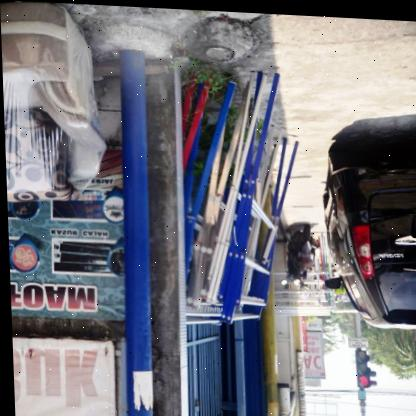Traffic Light -Red-: (353, 346, 368, 383)
